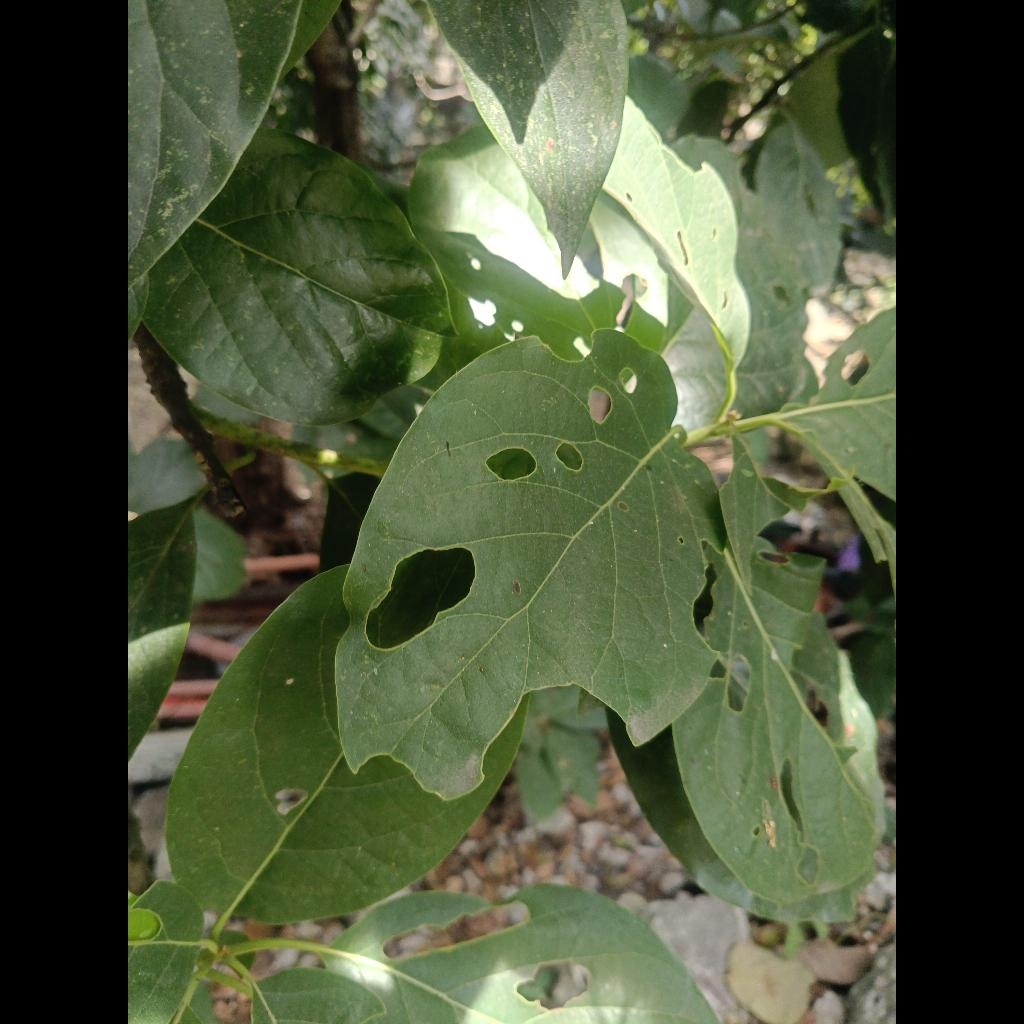Pest Infested: (336, 331, 720, 798)
